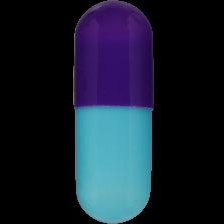61786-790: (0, 0, 224, 224)
